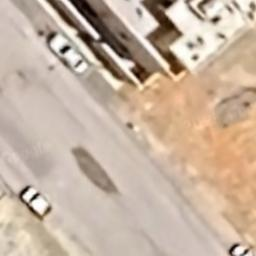SUV: (22, 184, 56, 222)
sedan: (46, 30, 92, 76)
unknown: (230, 240, 256, 256)
